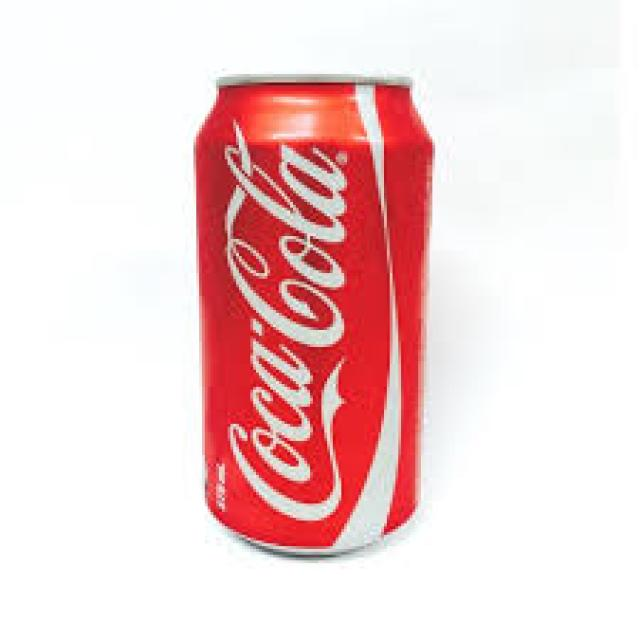metal: (191, 71, 435, 555)
